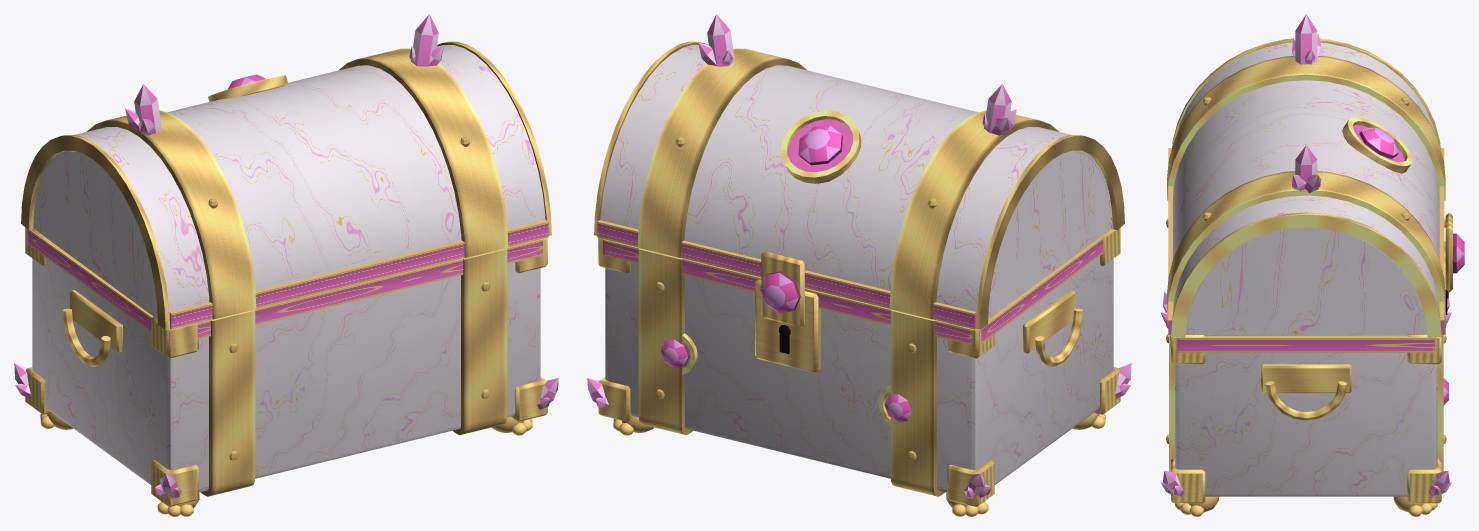
Rendered from Chest_Mythic.fbx.
3 views of the same model, side by side, from view 1: azimuth 30°, elevation 25°; view 2: azimuth 150°, elevation 25°; view 3: azimuth 270°, elevation 25° (orthographic). The views are drawn at different scales.
Parts seen in each view (by area): view 1: Lid, Base; view 2: Lid, Base; view 3: Lid, Base.
Boxes of the visible parts, x1,y1,x2,y2 form: Lid: (21,14,551,329); Base: (14,228,558,516); Lid: (594,14,1124,329); Base: (587,228,1131,516); Lid: (1167,14,1464,337); Base: (1160,219,1451,516).
Size of the model in its own units: 4.37 by 3.89 by 3.01.
1 material, 1 textured.
